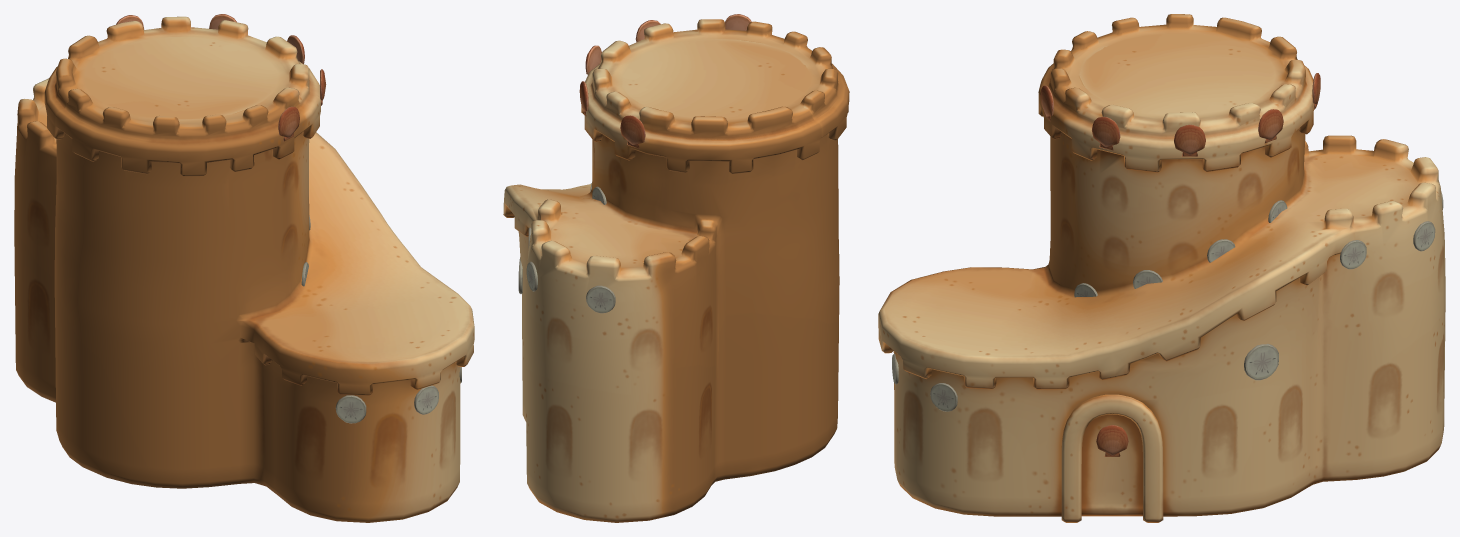
Rendered from SandCastle_Part1.fbx.
The picture shows the model from 3 angles, left to right: view 1: azimuth 30°, elevation 25°; view 2: azimuth 150°, elevation 25°; view 3: azimuth 270°, elevation 25°; orthographic projection. The views are drawn at different scales.
Visible parts, largest first — view 1: Base, SandDollar6, SandDollar5, Shell13; view 2: Base, SandDollar2, Shell12; view 3: Base, Doorway, SandDollar, Shell10, Shell1, Shell9, Shell11.
Part boxes in pixels (left/top/right/bottom): Base: left=14, top=16, right=474, bottom=522; SandDollar6: left=335, top=395, right=366, bottom=423; SandDollar5: left=414, top=385, right=438, bottom=414; Shell13: left=278, top=106, right=299, bottom=141; Base: left=503, top=19, right=849, bottom=522; SandDollar2: left=586, top=285, right=615, bottom=313; Shell12: left=620, top=115, right=645, bottom=148; Base: left=878, top=14, right=1445, bottom=516; Doorway: left=1061, top=394, right=1163, bottom=522; SandDollar: left=1244, top=343, right=1278, bottom=380; Shell10: left=1174, top=124, right=1205, bottom=156; Shell1: left=1096, top=425, right=1128, bottom=456; Shell9: left=1092, top=116, right=1120, bottom=150; Shell11: left=1258, top=109, right=1283, bottom=143.
Bounding box in the file's own units: 6.97 × 8.13 × 11.21.
